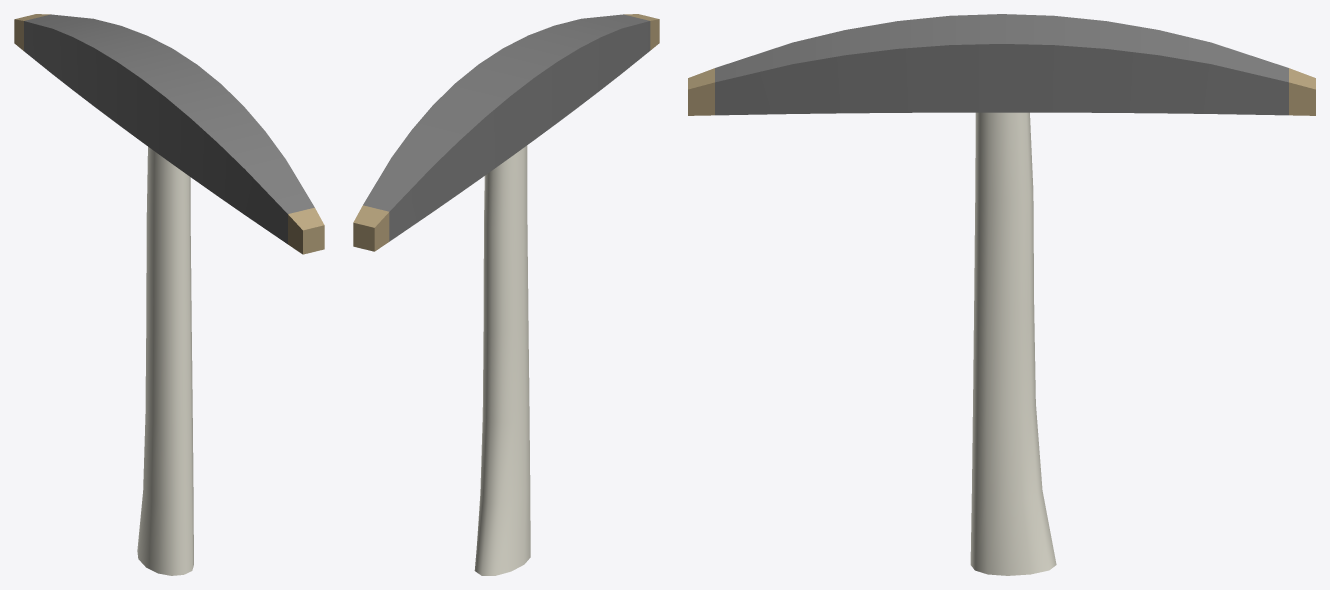
Rendered from Pico.FBX.
3 renders of one model, left to right at view 1: azimuth 30°, elevation 25°; view 2: azimuth 150°, elevation 25°; view 3: azimuth 270°, elevation 25°, orthographic. The views are drawn at different scales.
Visible parts, largest first — view 1: Pico; view 2: Pico; view 3: Pico.
Part boxes in pixels (bbox=[...]): Pico: bbox=[14, 14, 324, 575]; Pico: bbox=[353, 14, 659, 575]; Pico: bbox=[688, 14, 1315, 575].
Size of the model in its own units: 4.5 by 37.68 by 40.
